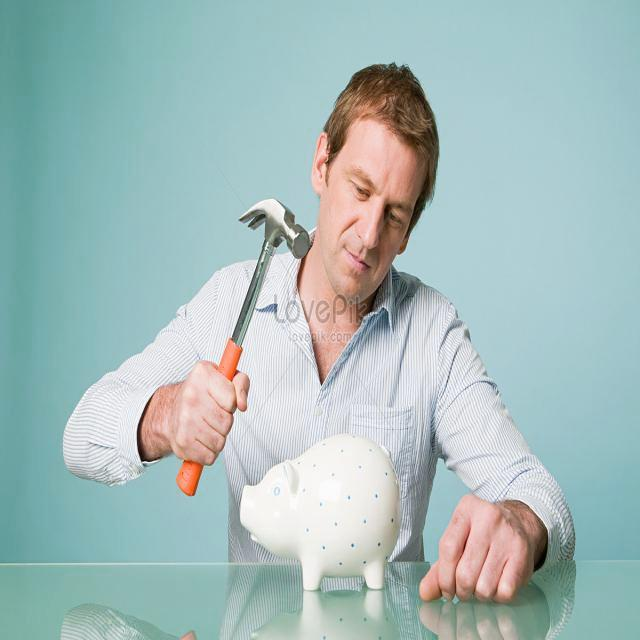hammer: (171, 188, 312, 508)
